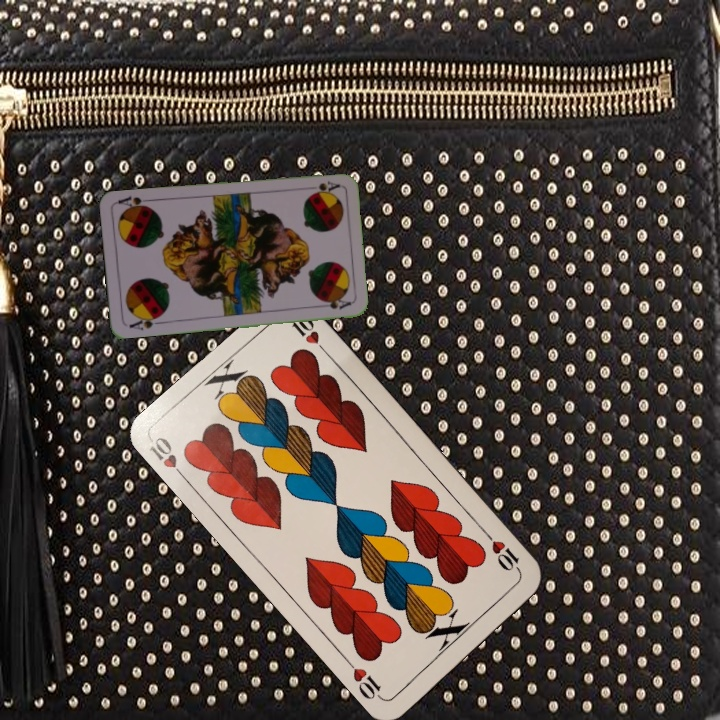H10: (144, 432, 191, 484), (481, 528, 524, 577)
SA: (125, 311, 165, 333), (307, 177, 342, 197)
